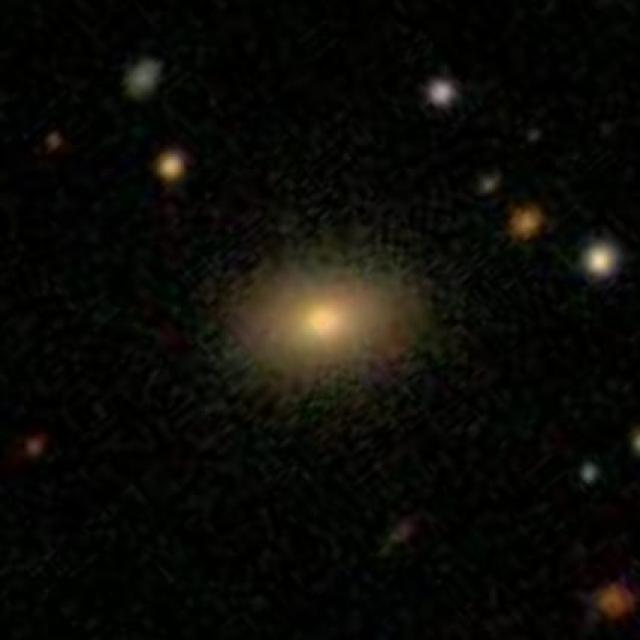galaxy: (186, 207, 479, 427), (586, 576, 640, 629), (119, 52, 166, 104), (581, 236, 623, 282), (506, 205, 549, 245), (157, 144, 190, 189), (387, 509, 418, 555), (425, 77, 461, 110), (45, 128, 70, 155), (24, 432, 48, 460), (577, 461, 601, 489), (481, 170, 503, 200)
